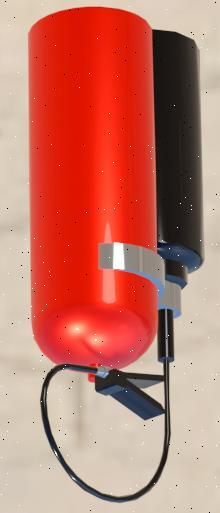Fire Extinguisher: (29, 7, 220, 513)
